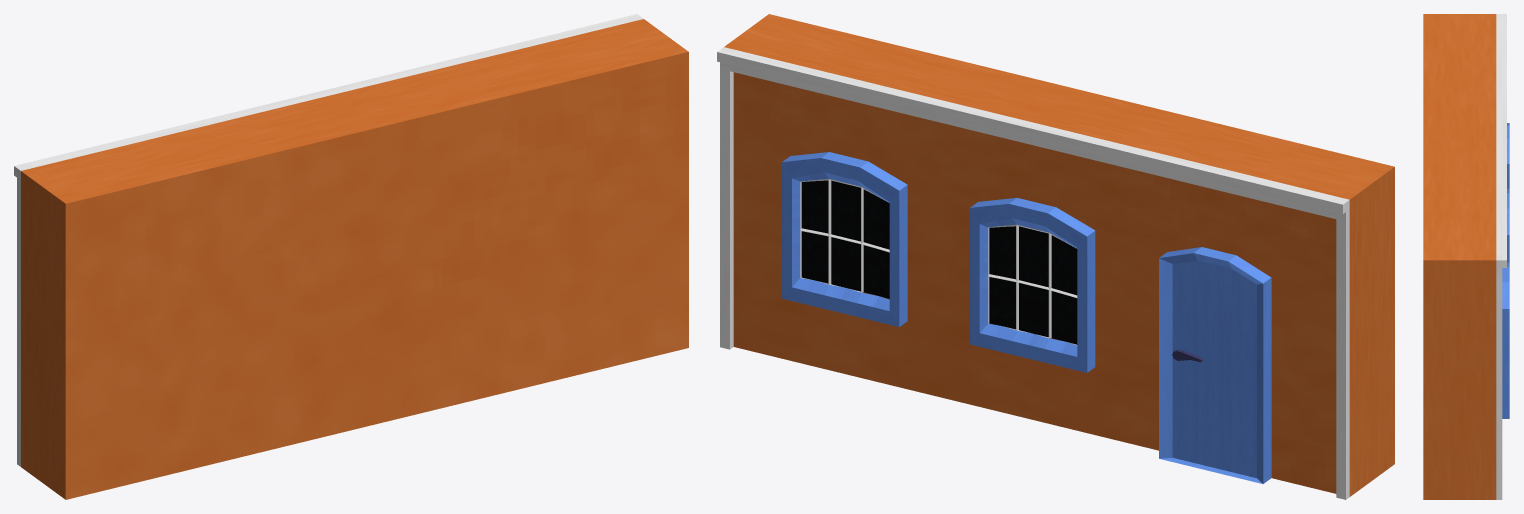
File: casaflo1laranja.gltf
The picture shows the model from 3 angles, left to right: view 1: azimuth 30°, elevation 25°; view 2: azimuth 150°, elevation 25°; view 3: azimuth 270°, elevation 25°; orthographic projection. The views are drawn at different scales.
Visible parts, largest first — view 1: cuboid; view 2: cuboid (×4); view 3: cuboid (×4).
Boxes of the visible parts, bbox=[...] form: cuboid: bbox=[14, 14, 688, 499]; cuboid (×4): bbox=[717, 14, 1394, 499]; cuboid (×4): bbox=[1423, 14, 1509, 499].
Bounding box in the file's own units: 3 × 1.36 × 0.4438.
Materials: 1 (1 with a texture image).
